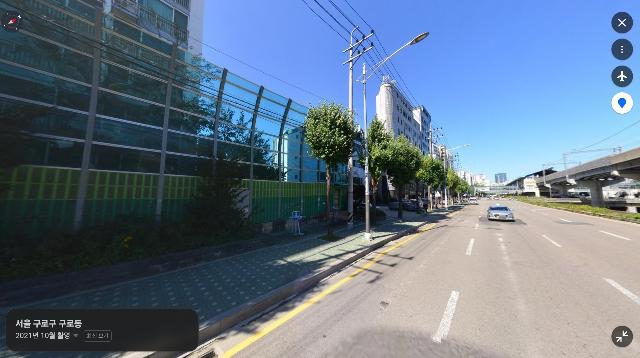other: (303, 99, 359, 239), (366, 114, 425, 220), (416, 153, 445, 214), (440, 163, 456, 211), (454, 172, 464, 207), (462, 178, 471, 203)
